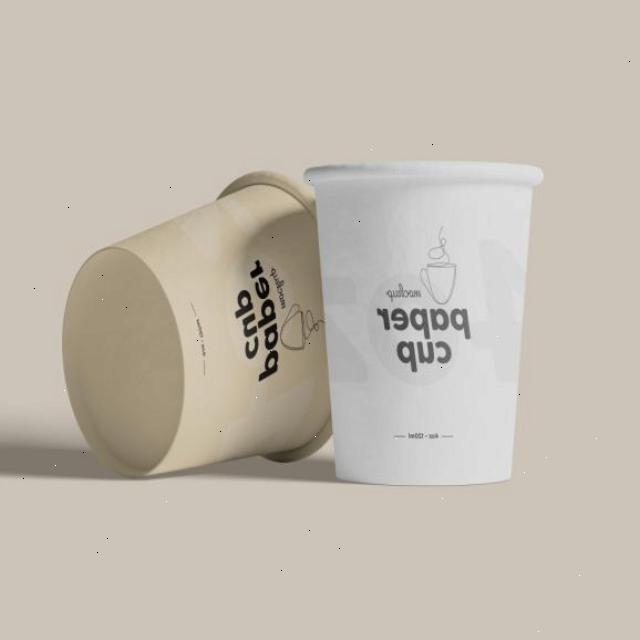trash: (58, 168, 336, 484), (307, 157, 545, 488)
